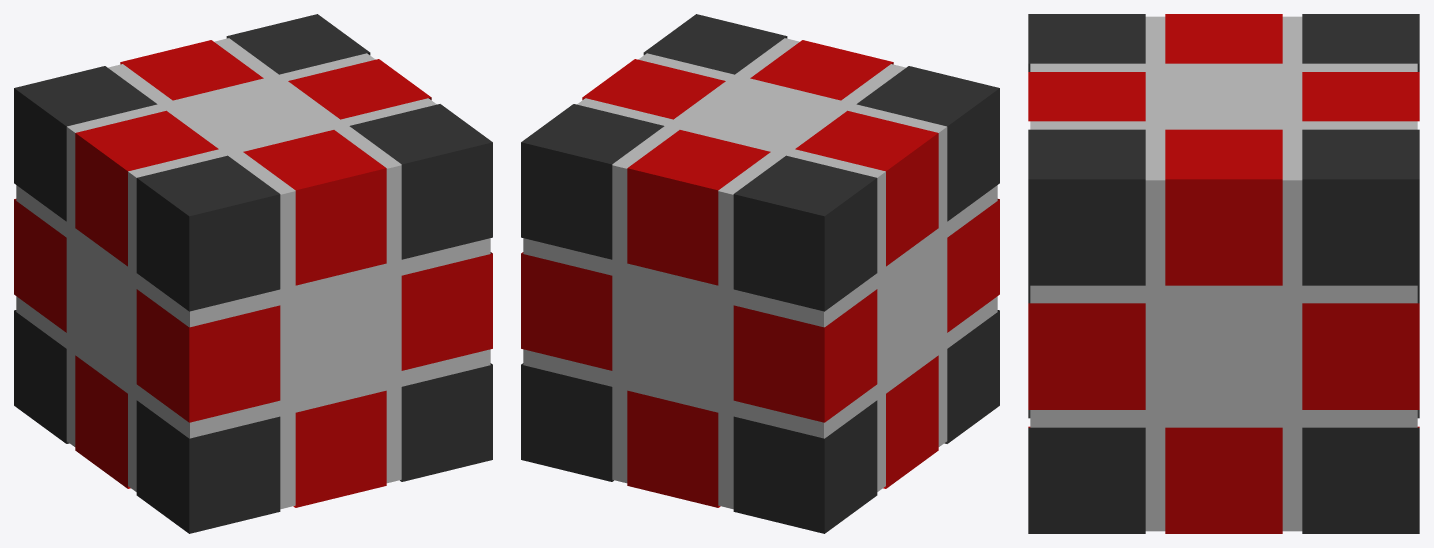
Rendered from low_poly_puzzle_cube.fbx.
3 views of the same model, side by side, from view 1: azimuth 30°, elevation 25°; view 2: azimuth 150°, elevation 25°; view 3: azimuth 270°, elevation 25° (orthographic). The views are drawn at different scales.
Visible parts, largest first — view 1: Cube.029; view 2: Cube.029; view 3: Cube.029.
Boxes of the visible parts, left/top/right/bottom form: Cube.029: left=14, top=14, right=492, bottom=533; Cube.029: left=521, top=14, right=999, bottom=533; Cube.029: left=1028, top=14, right=1419, bottom=533.
Size of the model in its own units: 101 by 101 by 101.
